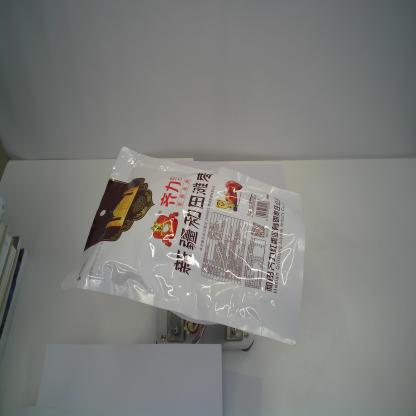Dried Food: (61, 146, 306, 347)
